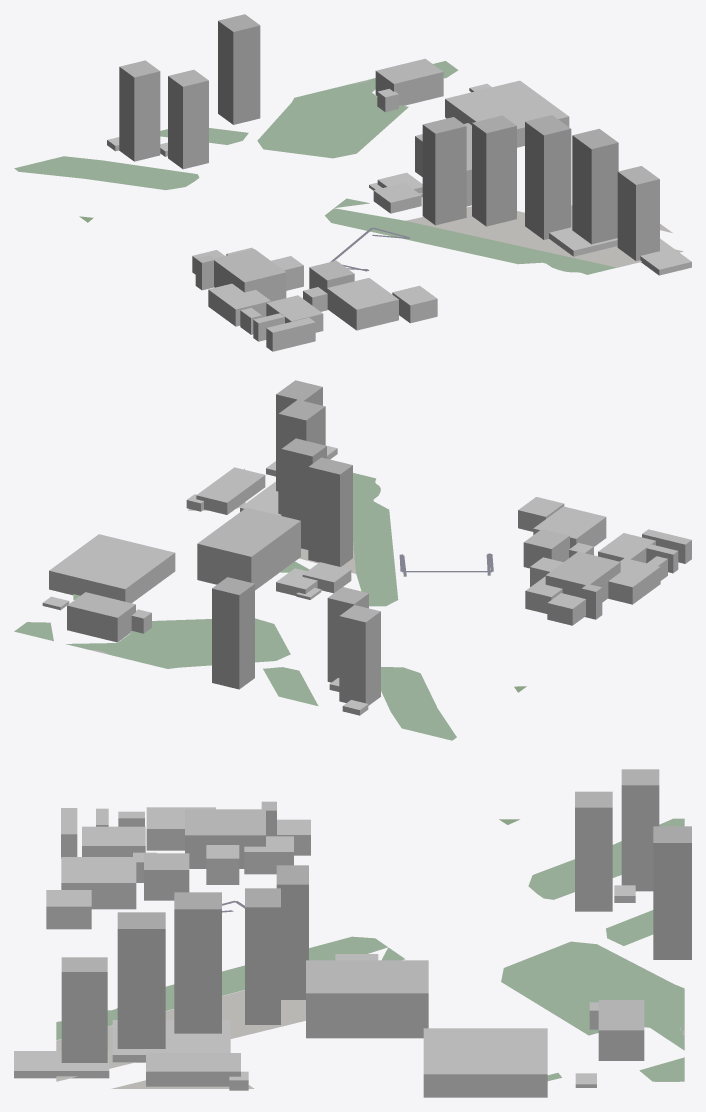
File: 133_89_mid.glb
3 renders of one model, top to bottom at view 1: azimuth 30°, elevation 25°; view 2: azimuth 150°, elevation 25°; view 3: azimuth 270°, elevation 25°, orthographic. The views are drawn at different scales.
Bounding box in the file's own units: 523 × 118 × 540.
